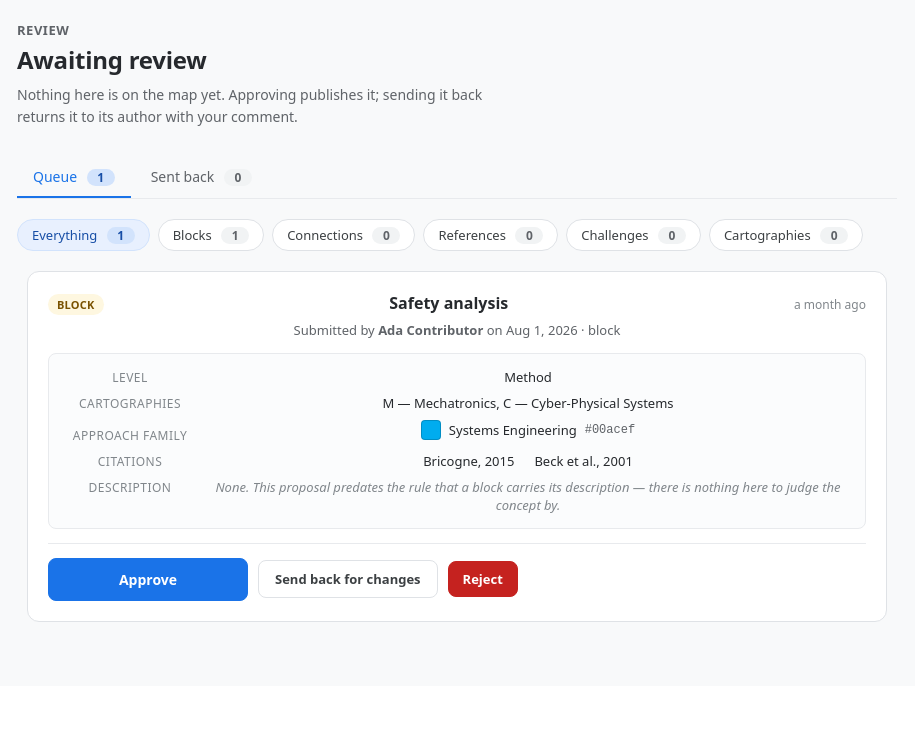
the three decisions › approves, and the card leaves the queue
Expected: the text "Safety analysis" is shown, top-left (389, 292), bottom-right (508, 314)
Click the button "Approve". click: (148, 579)
box: top-left (48, 558), bottom-right (248, 601)
(page scrolled)
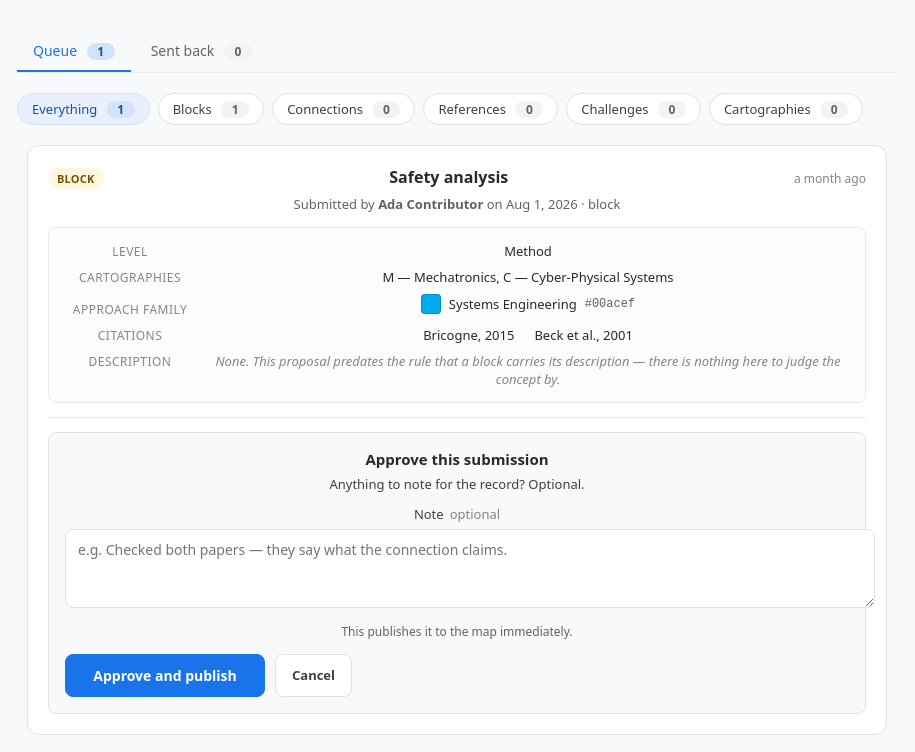
Click the button "Approve and publish". click: (165, 675)
box: top-left (65, 654), bottom-right (265, 697)
(page scrolled)
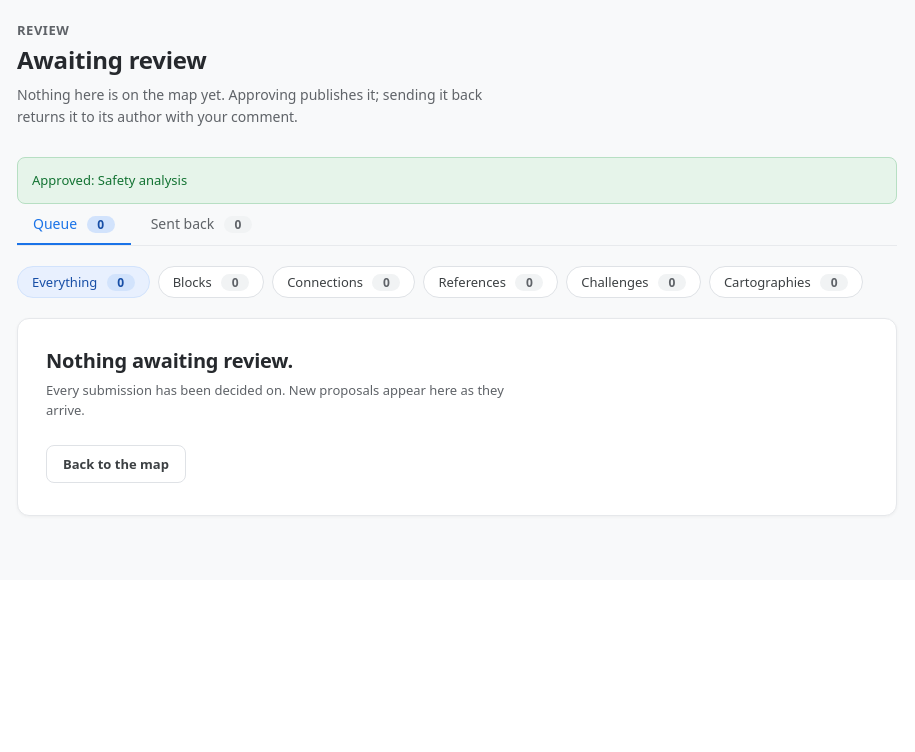
Expected: the text "Approved: Safety analysis" is shown, top-left (17, 157), bottom-right (897, 204)
